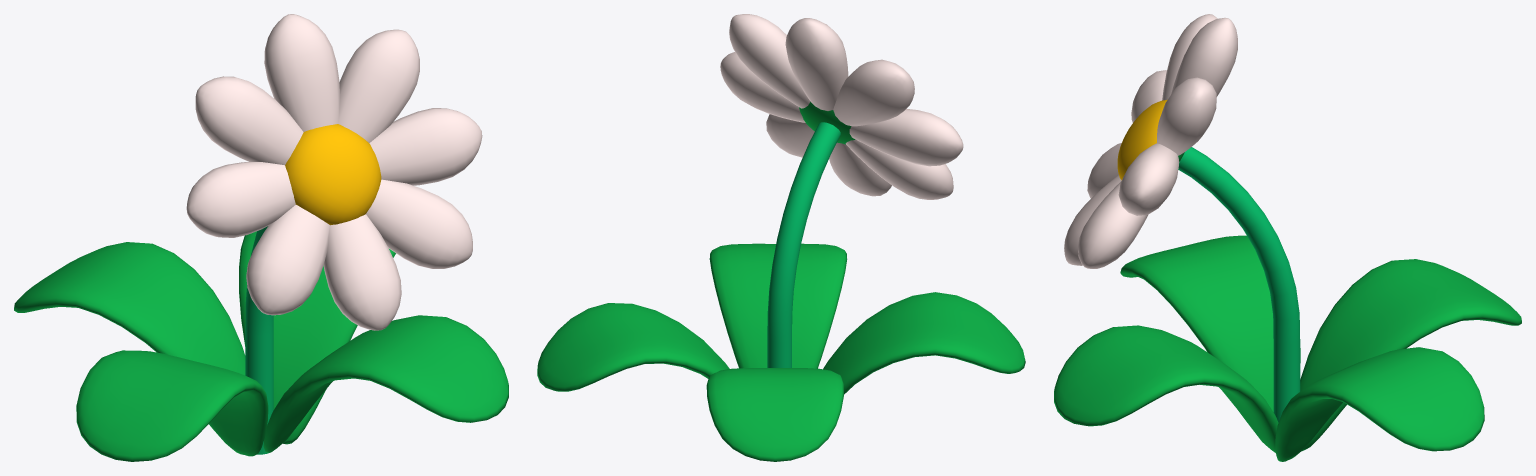
Rendered from City_17_Flower_Plant_1.glb.
3 renders of one model, left to right at view 1: azimuth 30°, elevation 25°; view 2: azimuth 150°, elevation 25°; view 3: azimuth 270°, elevation 25°, orthographic. The views are drawn at different scales.
Visible parts, largest first — view 1: City_17_Flower_Plant_1; view 2: City_17_Flower_Plant_1; view 3: City_17_Flower_Plant_1.
Part boxes in pixels (x1=…): City_17_Flower_Plant_1: x1=14, y1=14, x2=508, y2=461; City_17_Flower_Plant_1: x1=537, y1=14, x2=1025, y2=461; City_17_Flower_Plant_1: x1=1054, y1=14, x2=1521, y2=461.
Bounding box in the file's own units: 0.5838 × 0.6019 × 0.5937.
Materials: 1 (1 with a texture image).
